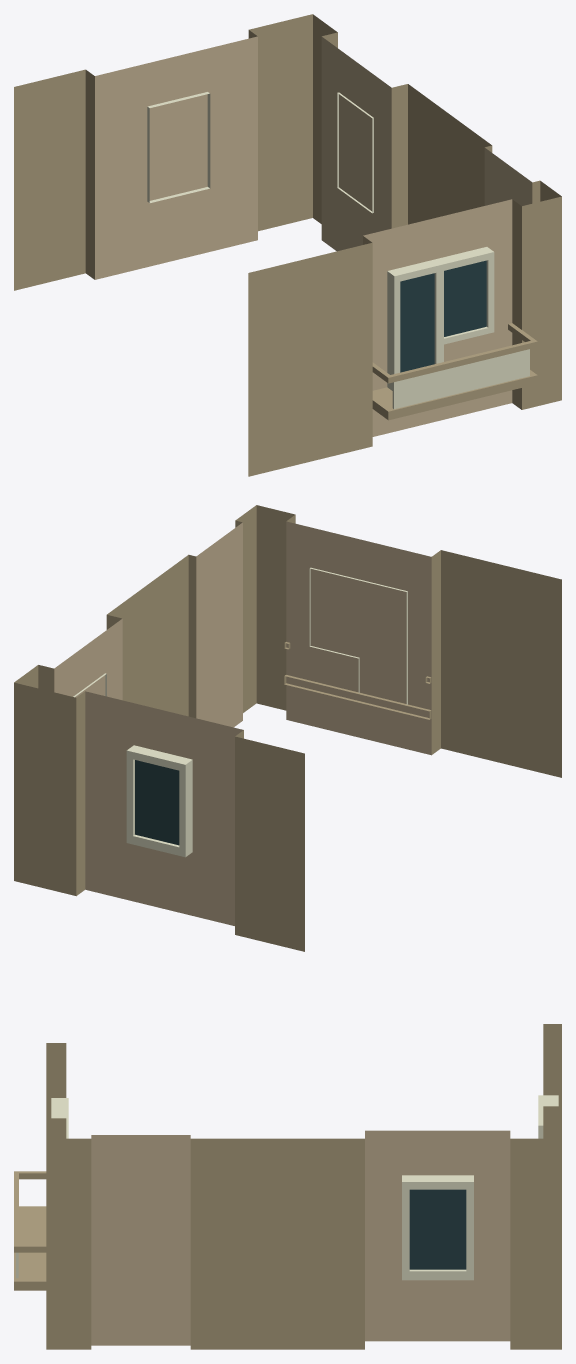
Rendered from apartment_building1_side1_middle.fbx.
3 views of the same model, one above another, from view 1: azimuth 30°, elevation 25°; view 2: azimuth 150°, elevation 25°; view 3: azimuth 270°, elevation 25° (orthographic). The views are drawn at different scales.
Parts seen in each view (by area): view 1: apartment_building1_side1_middle; view 2: apartment_building1_side1_middle; view 3: apartment_building1_side1_middle.
Boxes of the visible parts, x1,y1,x2,y2 form: apartment_building1_side1_middle: (14, 14, 561, 476); apartment_building1_side1_middle: (14, 505, 561, 951); apartment_building1_side1_middle: (14, 1024, 561, 1349).
Bounding box in the file's own units: 403 × 250 × 589.
